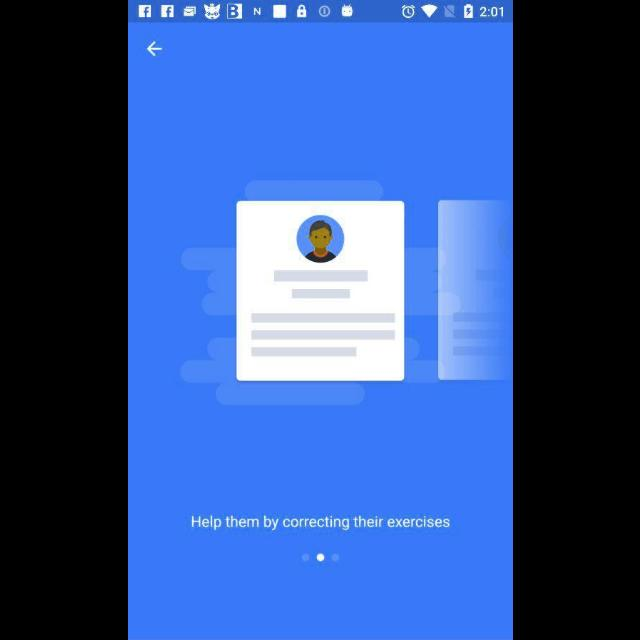icon: (146, 42, 162, 58)
image: (180, 181, 512, 405)
pageindicator: (300, 552, 340, 564)
text: (191, 514, 449, 532)
uppertaskbar: (128, 1, 512, 23)
